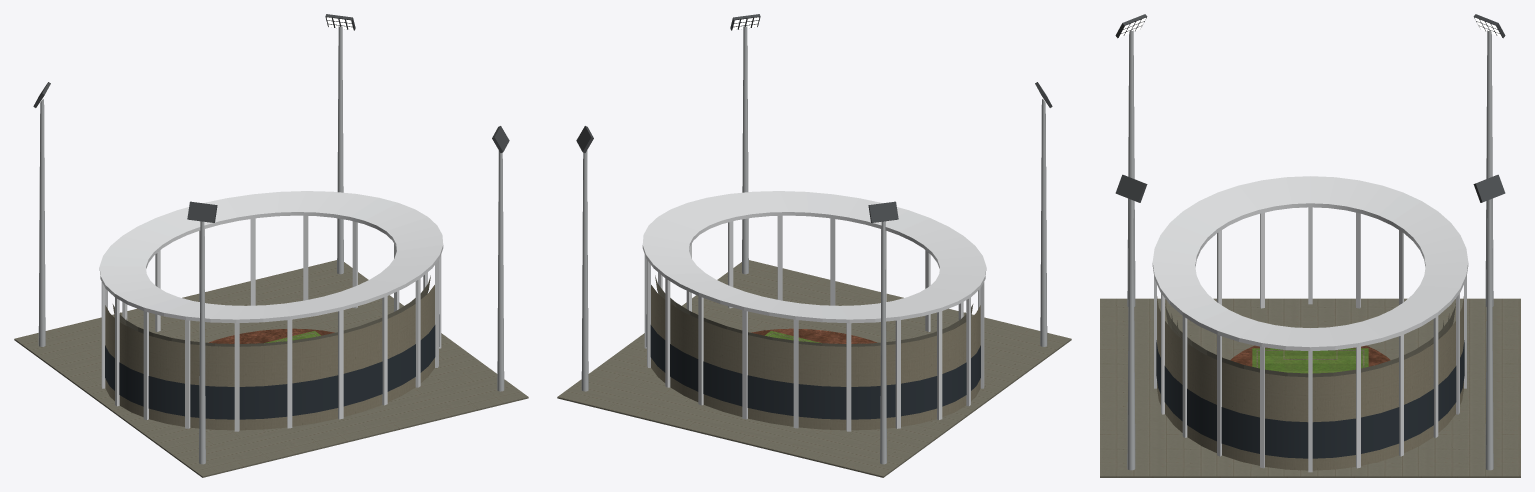
Rendered from stadium.glb.
3 views of the same model, side by side, from view 1: azimuth 30°, elevation 25°; view 2: azimuth 150°, elevation 25°; view 3: azimuth 270°, elevation 25° (orthographic). The views are drawn at different scales.
Parts seen in each view (by area): view 1: stadium_body, Floodlight_0; view 2: stadium_body, Floodlight_3; view 3: stadium_body, Floodlight_1, Floodlight_2.
Part boxes in pixels (bbox=[...]): stadium_body: bbox=[14, 26, 528, 477]; Floodlight_0: bbox=[187, 201, 217, 222]; stadium_body: bbox=[557, 26, 1071, 477]; Floodlight_3: bbox=[868, 201, 898, 222]; stadium_body: bbox=[1100, 30, 1520, 477]; Floodlight_1: bbox=[1115, 174, 1147, 202]; Floodlight_2: bbox=[1473, 174, 1505, 202].
Bounding box in the file's own units: 0.94 × 0.7155 × 0.94.
Materials: 13 (6 with a texture image).
